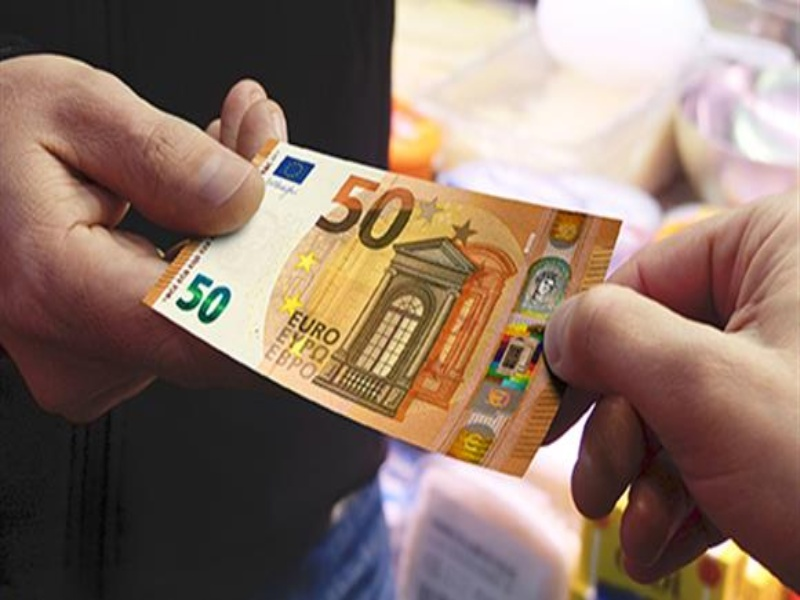cash: (142, 139, 624, 477)
